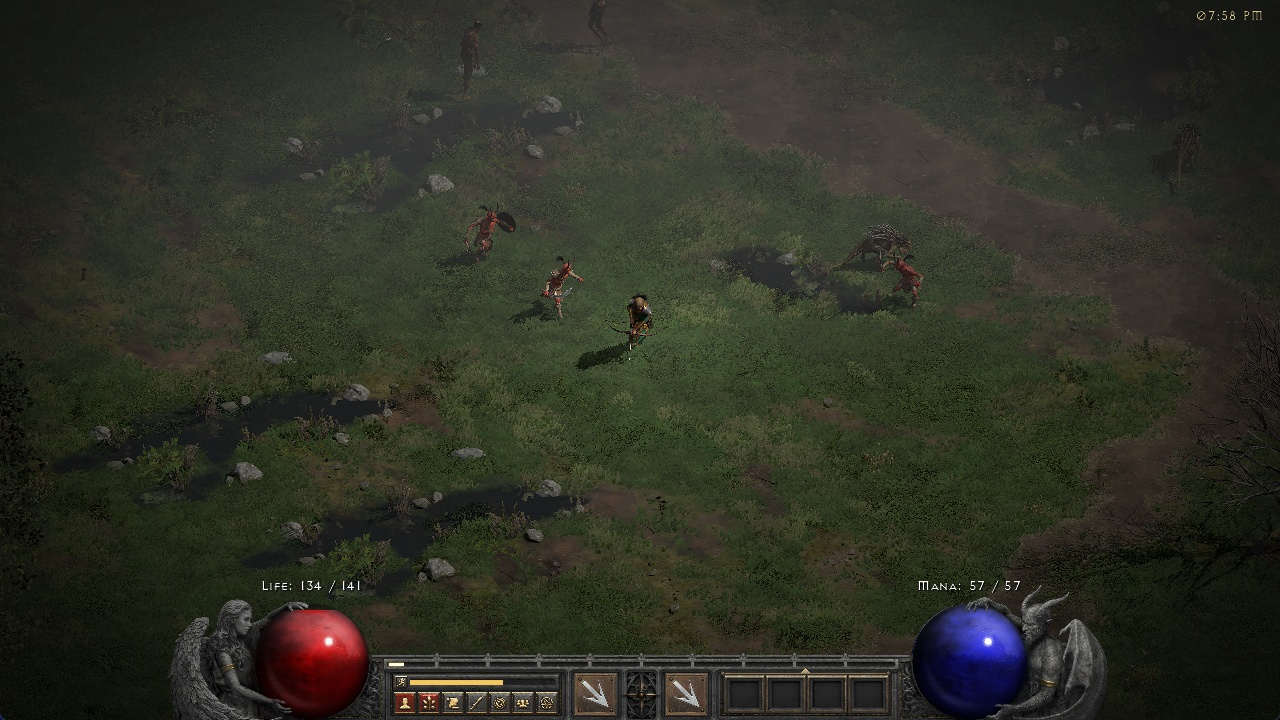fallen: (455, 203, 519, 268), (536, 254, 587, 326)
